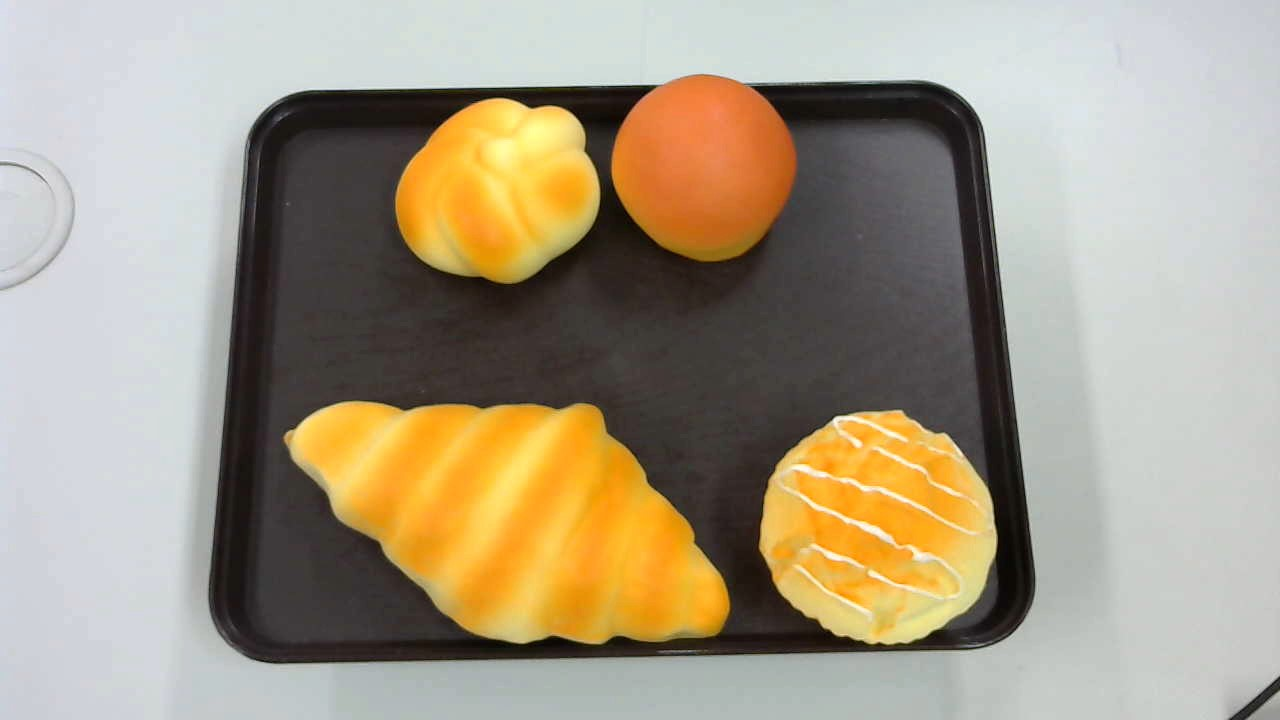bun: (611, 74, 798, 262)
croissant: (282, 399, 730, 645)
cupcake: (760, 408, 998, 645)
twist bread: (392, 99, 604, 287)
